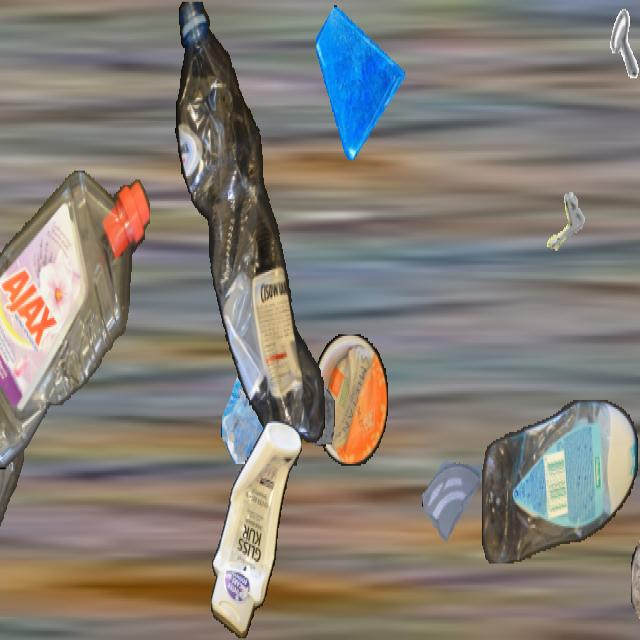glass: (316, 2, 404, 158), (221, 318, 303, 464), (269, 331, 335, 448), (422, 436, 484, 546)
metal: (578, 2, 640, 112), (529, 176, 589, 283)
plastic: (173, 2, 329, 464), (0, 171, 150, 469), (482, 400, 638, 564), (211, 422, 301, 638), (313, 334, 387, 466), (0, 347, 24, 638)
wood: (631, 534, 640, 630)
